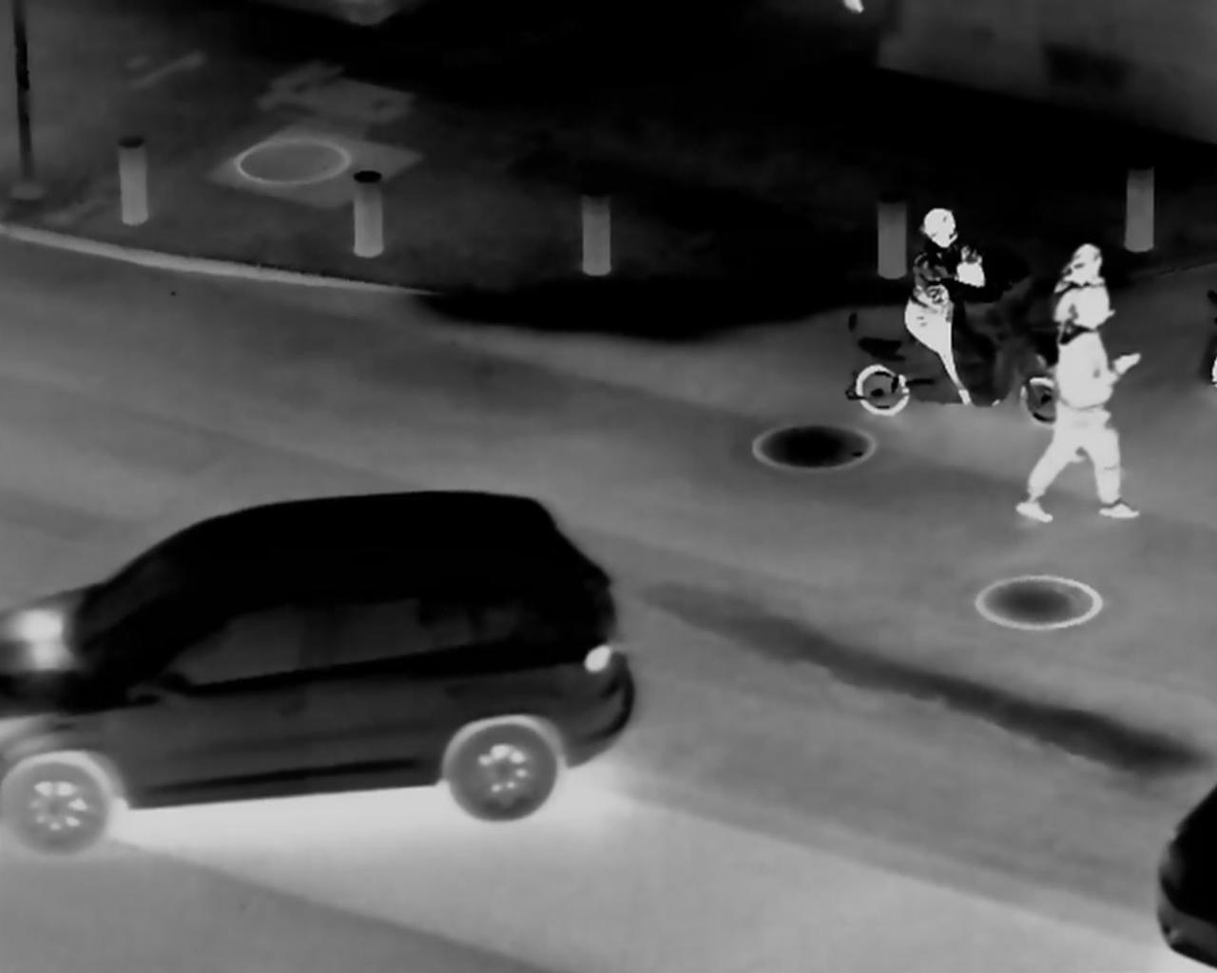person: (1014, 287, 1140, 540), (1055, 240, 1131, 464), (902, 201, 978, 416)
